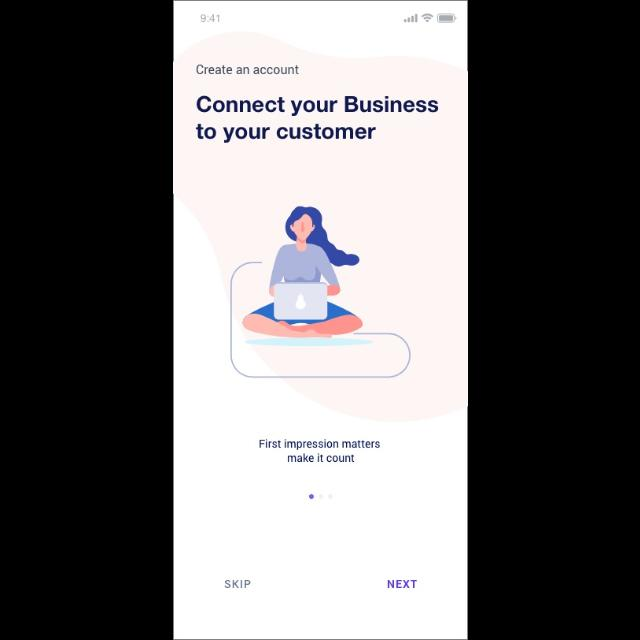image: (230, 206, 410, 378)
pageindicator: (308, 494, 334, 501)
text: (195, 96, 438, 144), (258, 438, 379, 462), (195, 64, 298, 76), (387, 580, 417, 588), (224, 580, 250, 588)
uppertaskbar: (200, 13, 456, 24)
